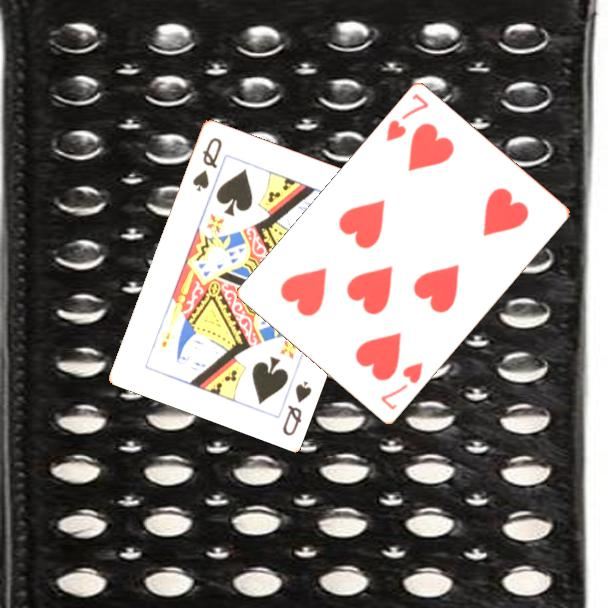h07: (377, 359, 426, 414), (382, 90, 431, 145)
s12: (189, 133, 225, 194), (279, 377, 314, 438)
